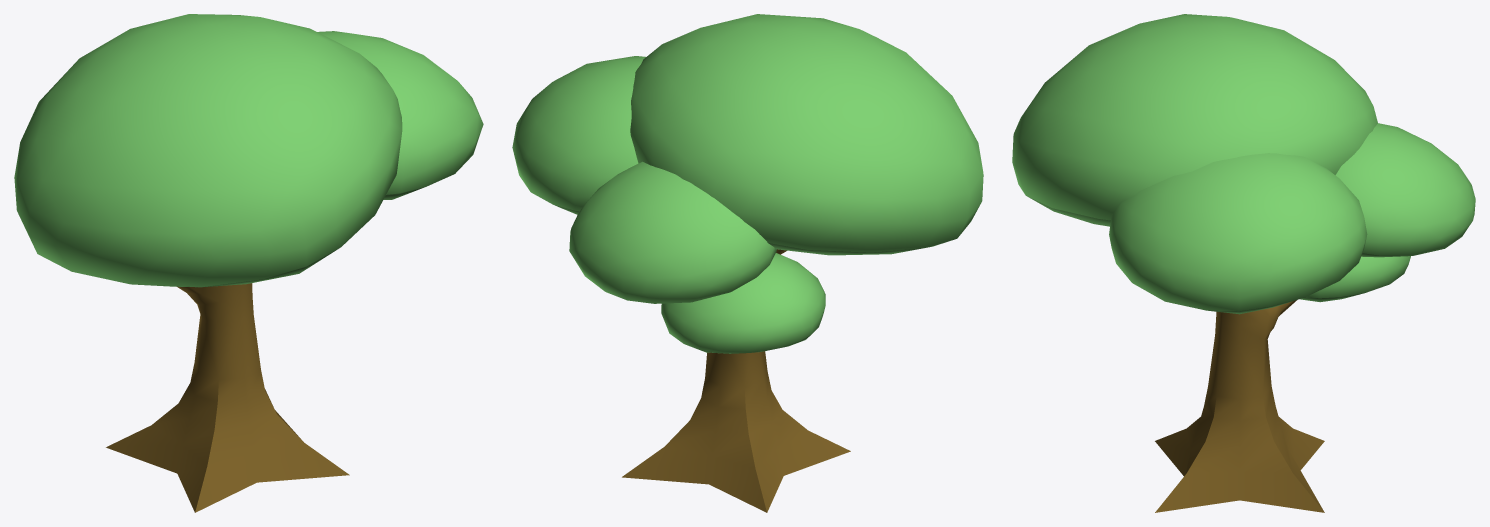
The model's file is tree3.fbx.
3 renders of one model, left to right at view 1: azimuth 30°, elevation 25°; view 2: azimuth 150°, elevation 25°; view 3: azimuth 270°, elevation 25°, orthographic. The views are drawn at different scales.
Parts seen in each view (by area): view 1: Tree3Foliage, Tree3; view 2: Tree3Foliage, Tree3; view 3: Tree3Foliage, Tree3.
Part boxes in pixels (x1,y1,x2,y2): Tree3Foliage: [14, 14, 483, 287]; Tree3: [106, 283, 349, 512]; Tree3Foliage: [512, 14, 983, 353]; Tree3: [622, 249, 850, 512]; Tree3Foliage: [1012, 14, 1475, 314]; Tree3: [1155, 300, 1324, 512].
Size of what is drawn, in the model's own units: 8.05 by 7.49 by 7.57.
